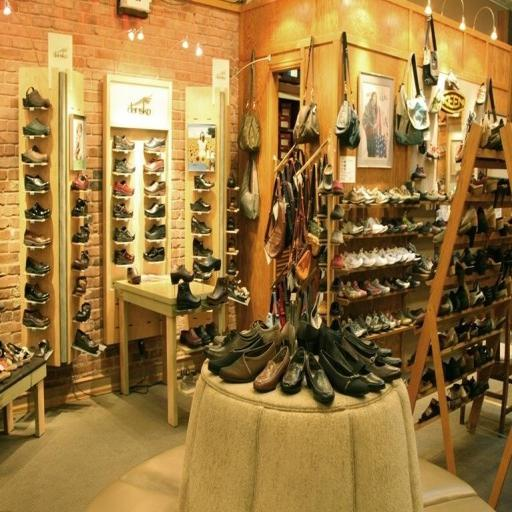shoe: (342, 330, 401, 382), (205, 333, 275, 375), (327, 341, 385, 391), (204, 329, 262, 373), (319, 350, 370, 396), (219, 342, 276, 383), (253, 346, 290, 392), (305, 353, 334, 403), (280, 347, 306, 394), (176, 282, 201, 311), (73, 329, 99, 355), (22, 86, 50, 108), (206, 277, 228, 305), (418, 398, 440, 423), (22, 309, 50, 328), (21, 145, 48, 164), (24, 229, 52, 247), (170, 264, 194, 285), (179, 328, 203, 349), (24, 283, 49, 303), (23, 118, 50, 136), (197, 253, 222, 272), (25, 257, 51, 275), (24, 174, 50, 192), (24, 202, 50, 220), (191, 215, 212, 234), (193, 325, 212, 345), (145, 223, 166, 241), (321, 164, 334, 193), (113, 226, 135, 243), (193, 238, 212, 257), (72, 250, 90, 270), (113, 180, 134, 197), (113, 249, 135, 265), (144, 180, 166, 196), (113, 135, 135, 151), (114, 158, 136, 174), (143, 158, 165, 173), (144, 203, 166, 218), (143, 247, 165, 262), (75, 302, 91, 322), (113, 203, 133, 219), (190, 197, 211, 212), (144, 137, 166, 151), (71, 174, 89, 191), (72, 198, 88, 217), (194, 175, 214, 190), (72, 276, 87, 296), (205, 321, 220, 340), (475, 82, 487, 105), (411, 164, 427, 180), (330, 203, 345, 220), (127, 267, 141, 285), (332, 179, 344, 198), (330, 229, 344, 245), (226, 258, 237, 276), (226, 172, 236, 189), (228, 197, 239, 212), (226, 216, 236, 231), (227, 237, 236, 253)
